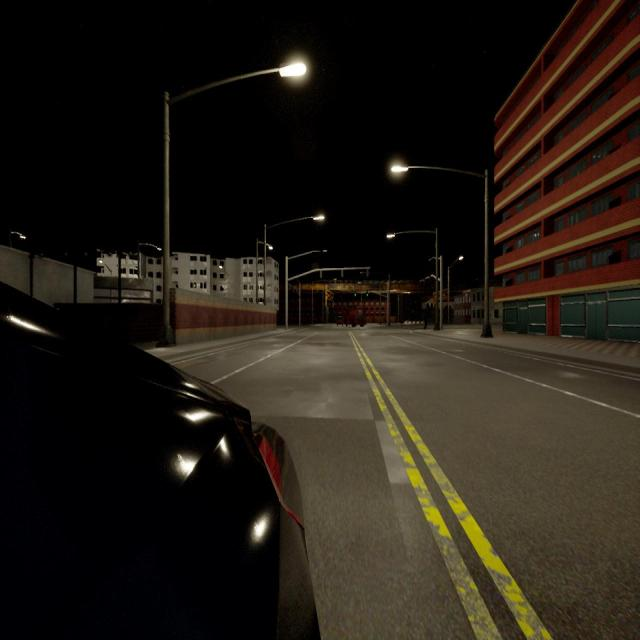Vehicle: (0, 287, 314, 640), (351, 310, 366, 326), (336, 316, 344, 326)
traffic_light: (366, 269, 368, 277), (341, 270, 343, 277), (320, 271, 322, 278), (354, 291, 356, 296), (366, 291, 368, 296)
